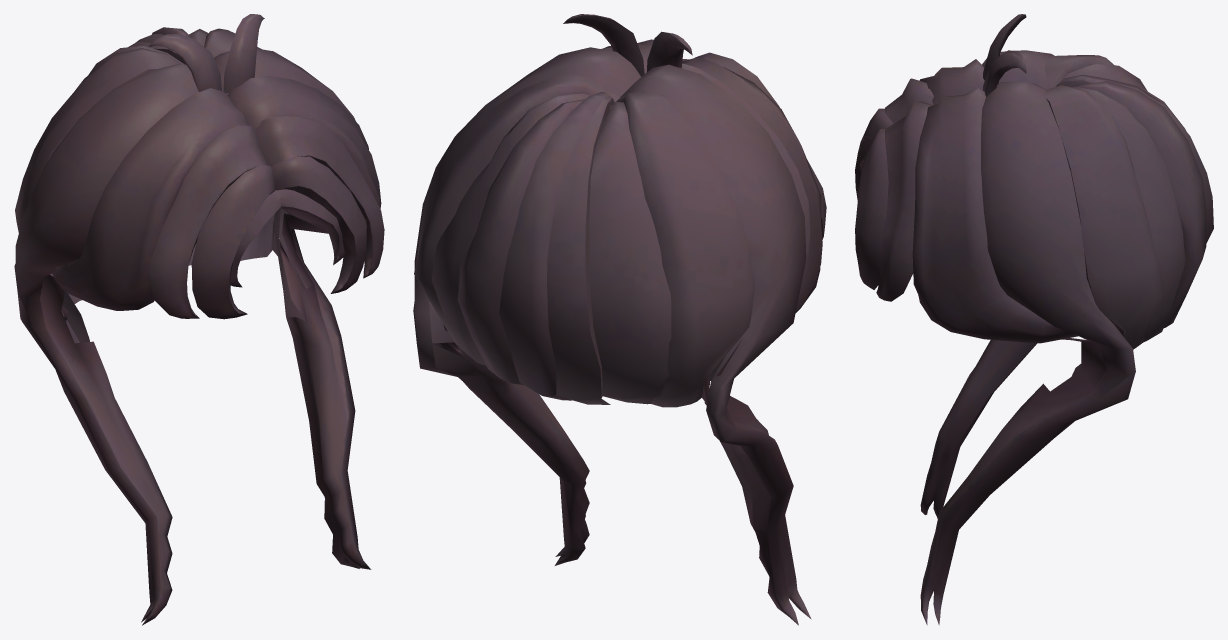
The model's file is hair_braids.glb.
3 views of the same model, side by side, from view 1: azimuth 30°, elevation 25°; view 2: azimuth 150°, elevation 25°; view 3: azimuth 270°, elevation 25° (orthographic). The views are drawn at different scales.
Visible parts, largest first — view 1: Hairmodel; view 2: Hairmodel; view 3: Hairmodel.
Boxes of the visible parts, left/top/right/bottom form: Hairmodel: left=14, top=14, right=384, bottom=625; Hairmodel: left=413, top=14, right=826, bottom=625; Hairmodel: left=855, top=14, right=1213, bottom=625.
Bounding box in the file's own units: 4.91 × 7.78 × 4.71.
Materials: 1 (1 with a texture image).
